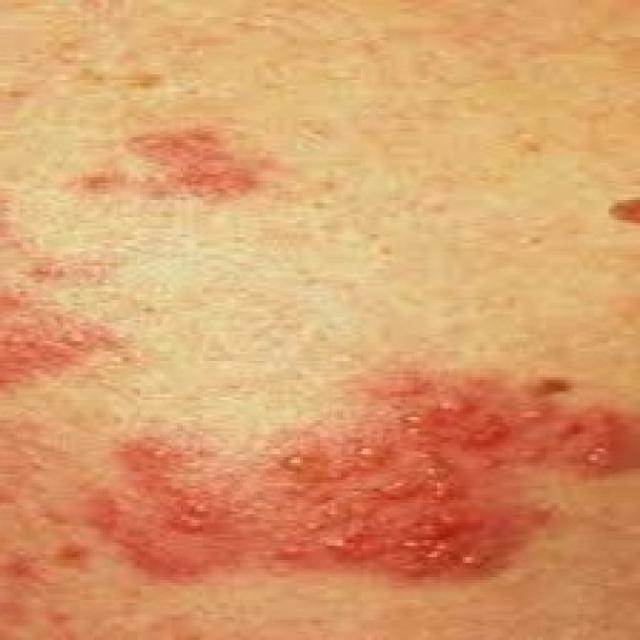Shingles: (64, 366, 640, 584), (67, 119, 249, 204), (0, 288, 124, 384)
